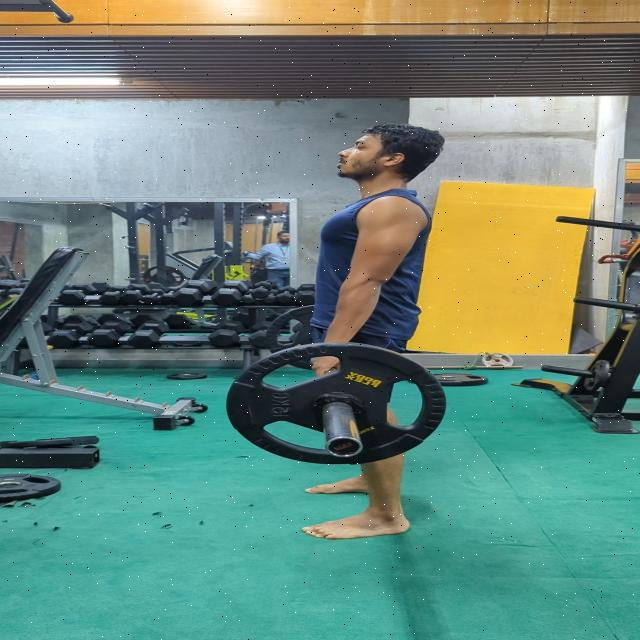Normal_Deadlifts: (284, 121, 454, 543)
